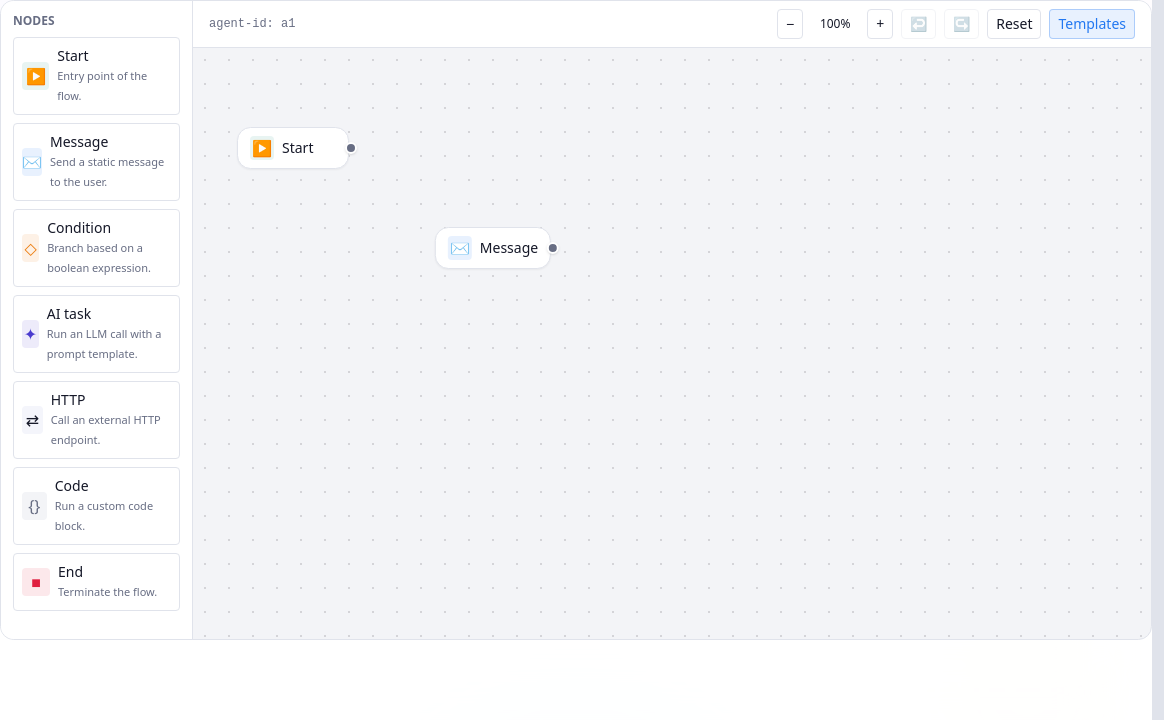
Scenario: Flow edge editing › connects two nodes by mousedown on handle then click on target
Press the mouse on the button with test id "flow-handle-start-1" at [351, 148], box [345,142,357,154]
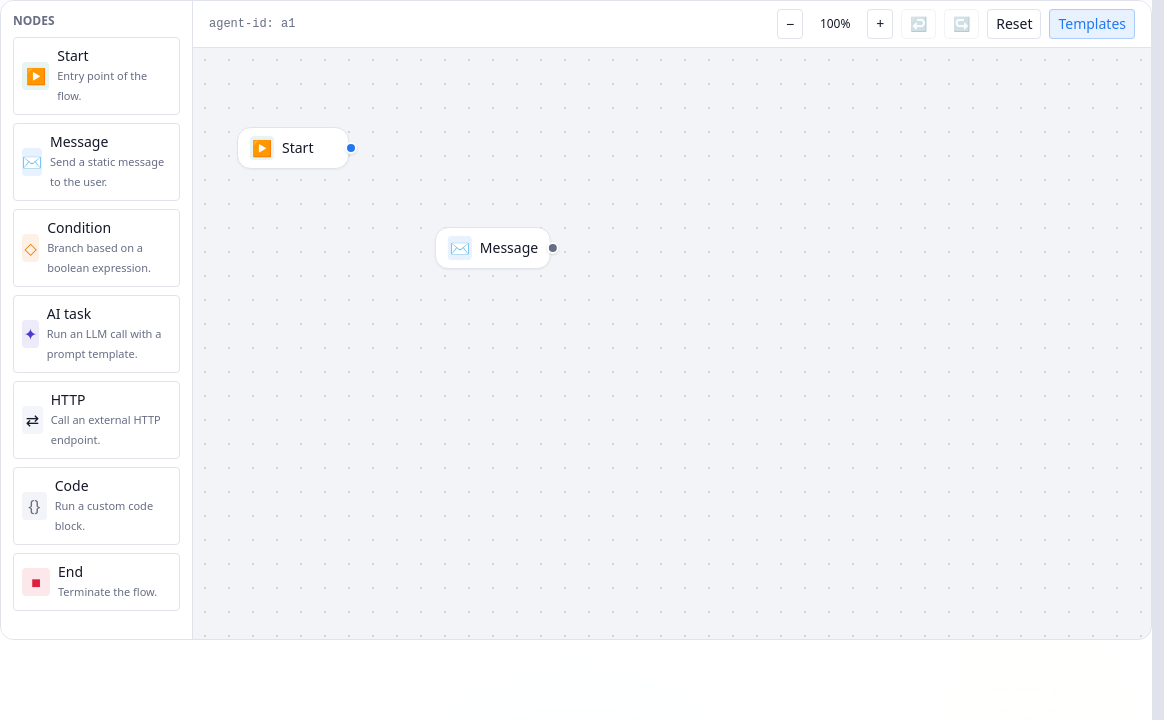
Click the button with test id "flow-node-message-1" at [493, 248], box [435,227,551,269]
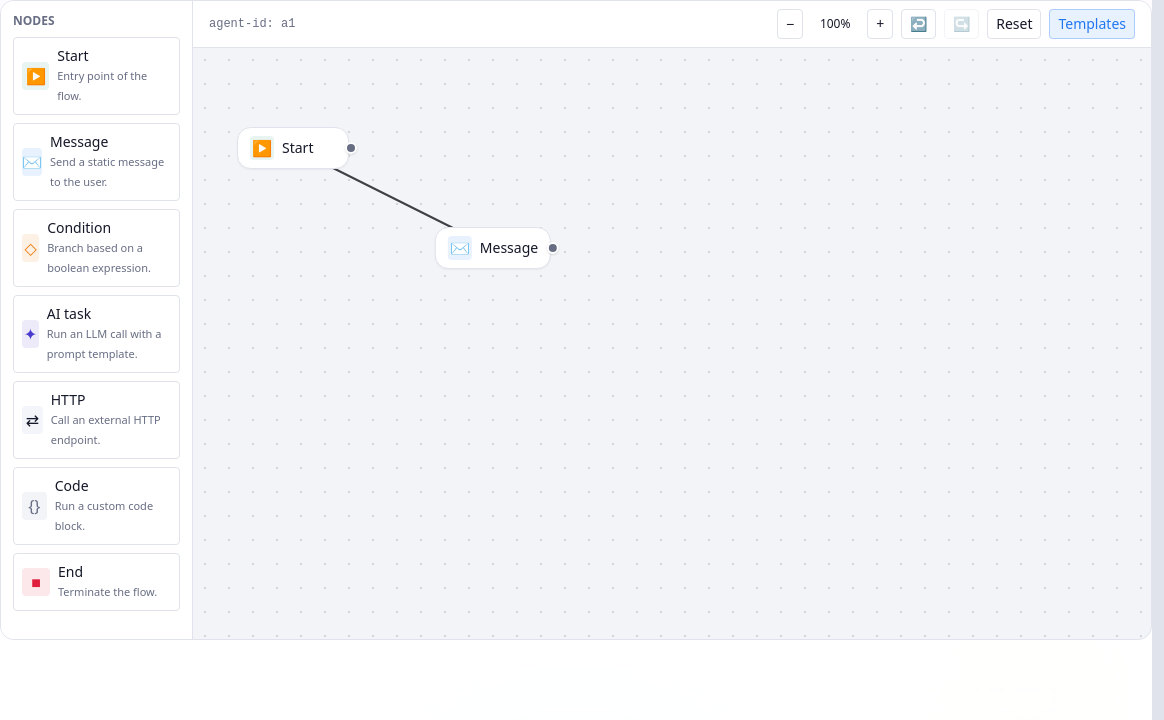
Check: the element with test id "flow-edge-edge-1" is shown, box [293,148,493,248]
Check: the icon with test id "flow-edges" is shown
